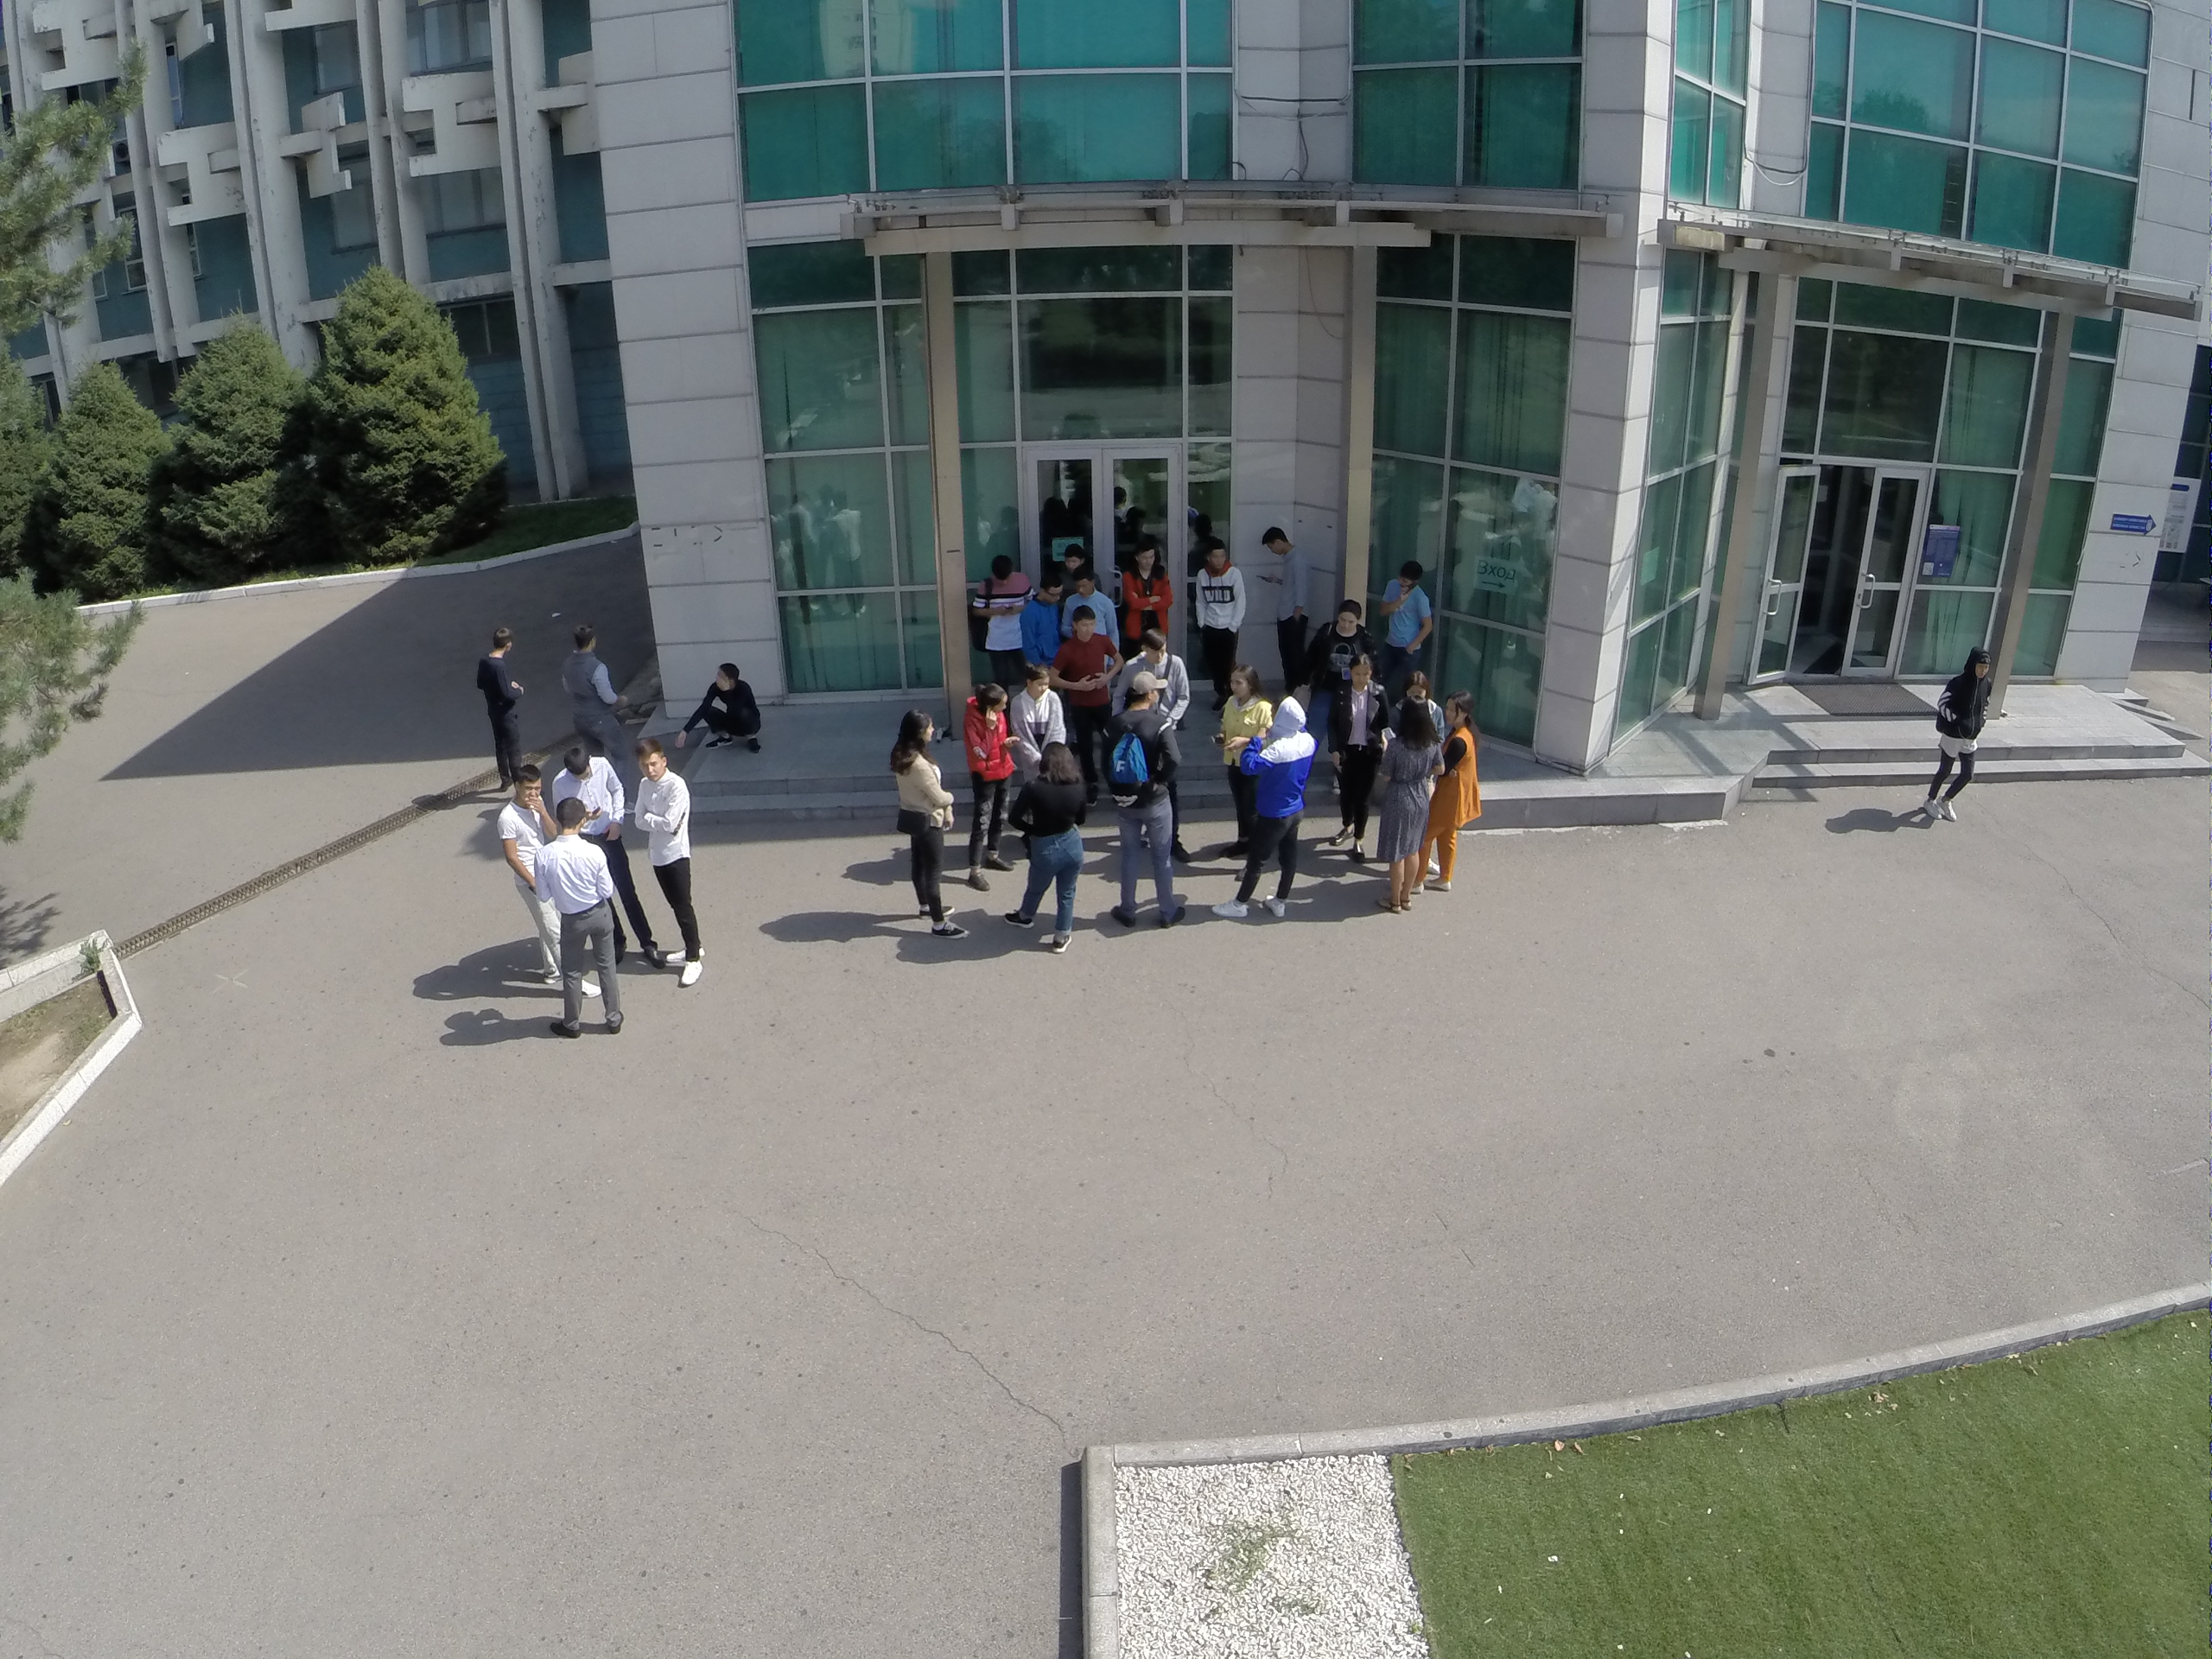person: (527, 798, 626, 1039), (874, 712, 967, 944), (1105, 674, 1185, 931), (627, 738, 694, 993), (1249, 693, 1317, 925), (1916, 645, 1996, 831), (1013, 753, 1077, 959), (1320, 655, 1389, 849), (1378, 696, 1440, 905), (1058, 599, 1117, 810), (969, 676, 1019, 892), (673, 654, 771, 763), (1434, 687, 1484, 900), (470, 622, 535, 775), (1259, 524, 1318, 685), (1104, 624, 1192, 730), (554, 613, 620, 749), (1185, 538, 1250, 677), (1214, 656, 1271, 806), (964, 552, 1034, 677), (1378, 555, 1437, 678), (491, 760, 551, 863), (1117, 538, 1170, 641), (1307, 592, 1376, 668), (550, 742, 621, 810), (1016, 664, 1067, 753), (1026, 570, 1067, 671), (1063, 565, 1110, 618)
